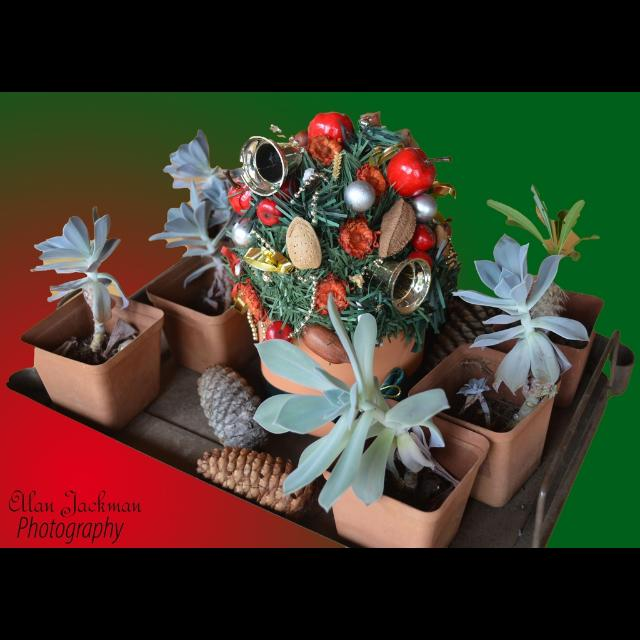Flower: (341, 218, 384, 260), (316, 271, 350, 317), (238, 280, 266, 326), (308, 134, 344, 166), (358, 162, 386, 195)
